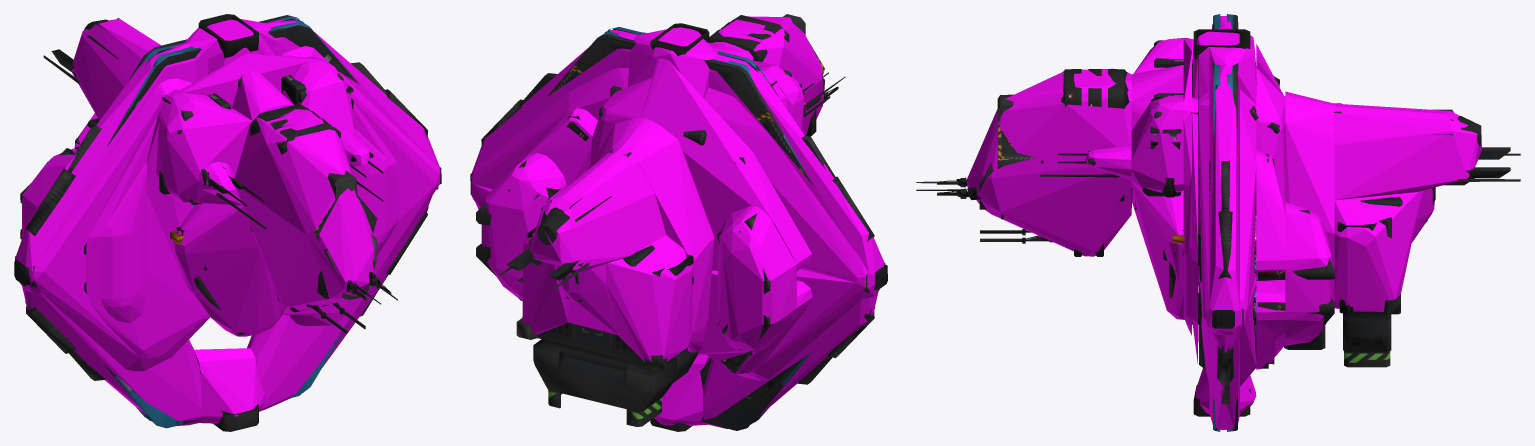
The model's file is Outpost.glb.
3 views of the same model, side by side, from view 1: azimuth 30°, elevation 25°; view 2: azimuth 150°, elevation 25°; view 3: azimuth 270°, elevation 25° (orthographic). The views are drawn at different scales.
Visible parts, largest first — view 1: COL_CoACD021, p1_op, COL_CoACD005, COL_CoACD016, COL_CoACD009, COL_CoACD011, COL_CoACD007, COL_CoACD031, COL_CoACD001, COL_CoACD000, COL_CoACD034, COL_CoACD015 (+12 smaller); view 2: p1_op, COL_CoACD010, COL_CoACD019, COL_CoACD003, COL_CoACD013, COL_CoACD014, COL_CoACD002, COL_CoACD037, COL_CoACD001, COL_CoACD007, COL_CoACD038, COL_CoACD004 (+12 smaller); view 3: COL_CoACD021, p1_op, COL_CoACD019, COL_CoACD027, COL_CoACD040, COL_CoACD025, COL_CoACD037, COL_CoACD028, COL_CoACD016, COL_CoACD038, COL_CoACD035, COL_CoACD034 (+14 smaller).
Part boxes in pixels (x1,y1,x2,y2): COL_CoACD021: (235, 106, 374, 310); p1_op: (14, 14, 441, 431); COL_CoACD005: (32, 78, 210, 371); COL_CoACD016: (173, 203, 285, 336); COL_CoACD009: (86, 90, 207, 358); COL_CoACD011: (156, 93, 252, 205); COL_CoACD007: (22, 286, 201, 425); COL_CoACD031: (247, 196, 432, 411); COL_CoACD001: (15, 43, 195, 293); COL_CoACD000: (100, 162, 147, 322); COL_CoACD034: (282, 46, 439, 325); COL_CoACD015: (146, 53, 324, 332); p1_op: (470, 14, 887, 431); COL_CoACD010: (641, 58, 812, 270); COL_CoACD019: (529, 148, 666, 271); COL_CoACD003: (718, 206, 796, 353); COL_CoACD013: (606, 235, 692, 361); COL_CoACD014: (617, 118, 714, 352); COL_CoACD002: (704, 88, 869, 283); COL_CoACD037: (481, 153, 566, 299); COL_CoACD001: (708, 54, 884, 299); COL_CoACD007: (703, 292, 878, 428); COL_CoACD038: (471, 68, 628, 189); COL_CoACD004: (735, 269, 869, 380); COL_CoACD021: (966, 68, 1131, 256); p1_op: (916, 14, 1520, 431); COL_CoACD019: (1334, 103, 1481, 200); COL_CoACD027: (1334, 191, 1422, 311); COL_CoACD040: (1209, 64, 1239, 335); COL_CoACD025: (1285, 97, 1334, 304); COL_CoACD037: (1285, 202, 1331, 345); COL_CoACD028: (1131, 95, 1183, 192); COL_CoACD016: (1131, 181, 1183, 319); COL_CoACD038: (1240, 89, 1256, 311); COL_CoACD035: (1256, 150, 1285, 277); COL_CoACD034: (1198, 91, 1209, 382).
Size of the model in its own units: 24.33 by 21.82 by 32.24.
Materials: 2 (1 with a texture image).
